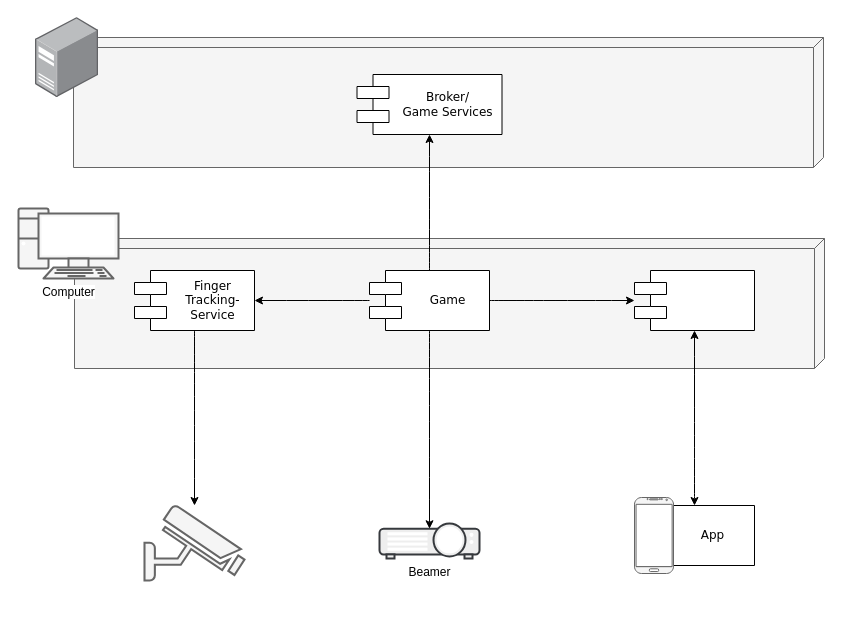
This 842x633 diagram has some shape labels left out. The centre of each missing label's shape, as x and y in pixels:
"Bluetooth- Service" belongs at [694,300].
"Camera for Finger Tracking" belongs at [194,542].
"Server/Broker" belongs at [66,57].
